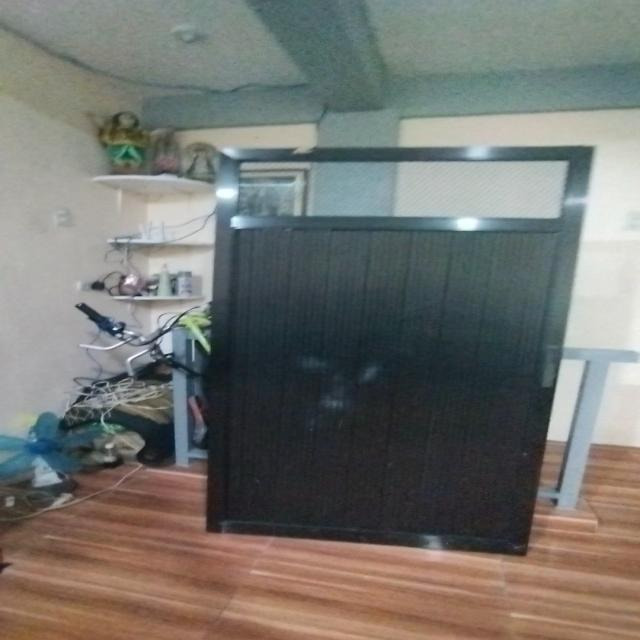door: (203, 140, 606, 562)
